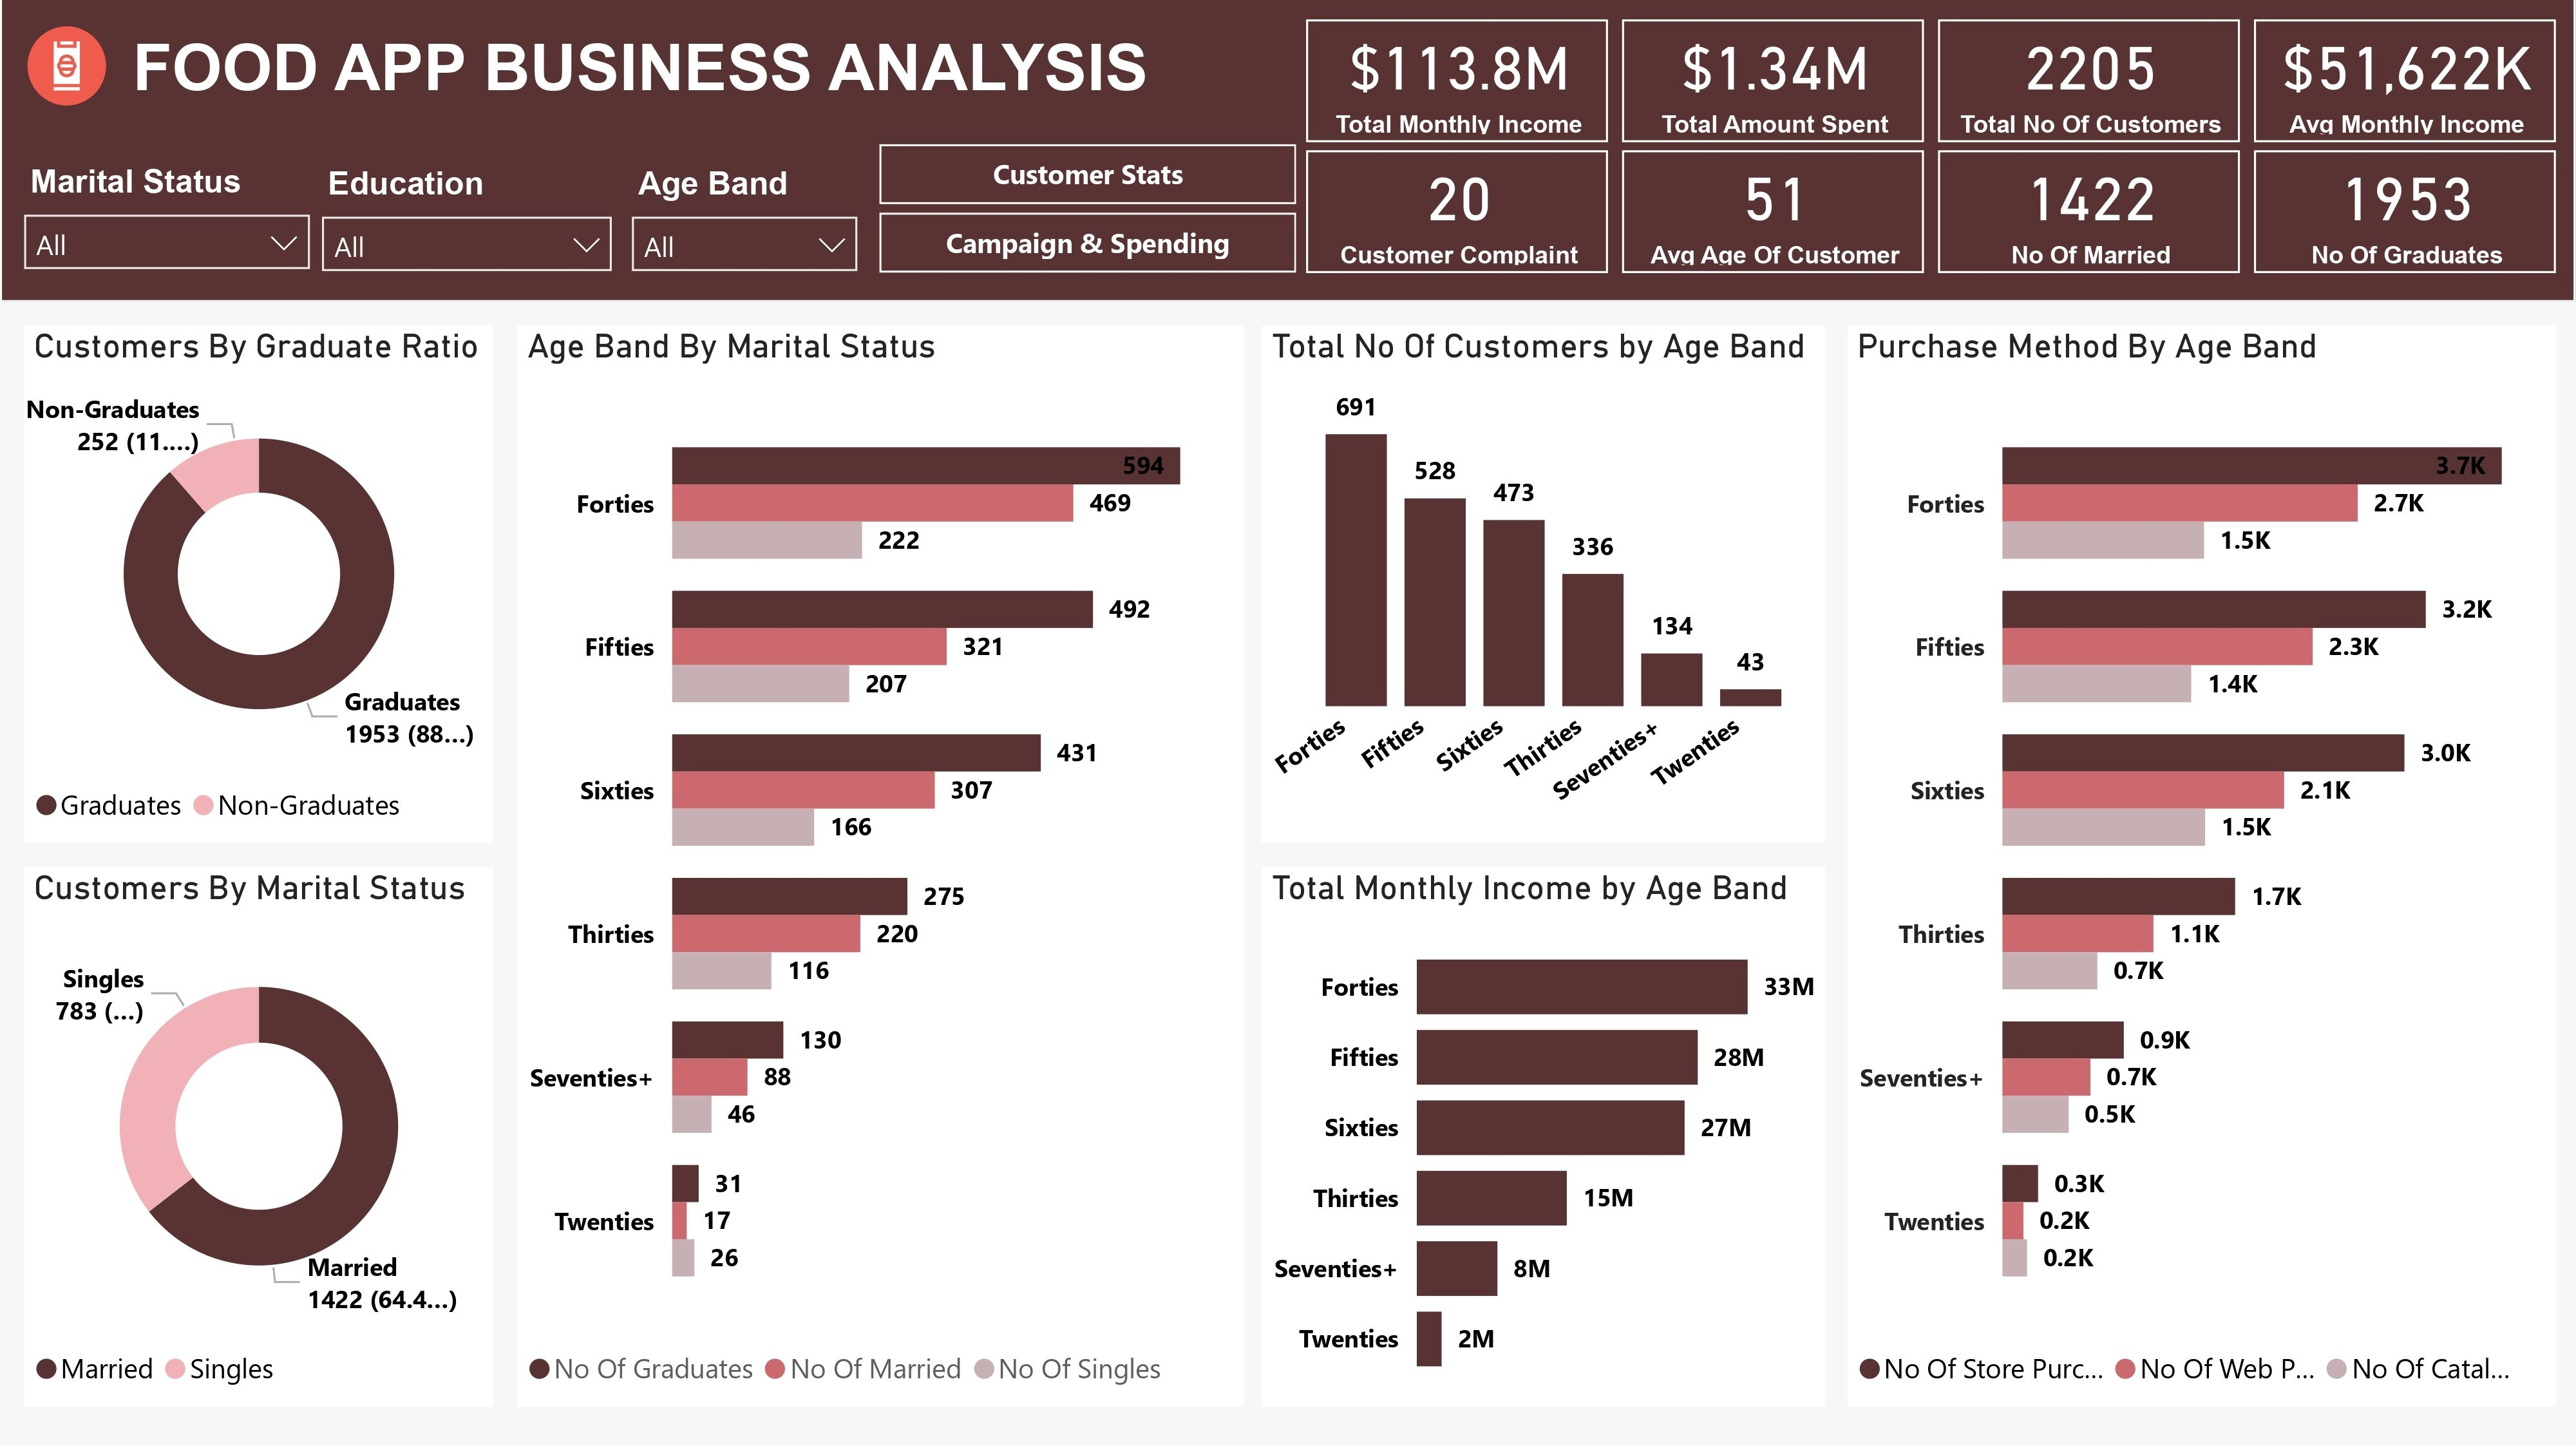

This screenshot's page, from the dashboard's own definition file:
{"tool":"powerbi","page":{"name":"REPORT 1","canvas":[1280,720],"ordinal":0},"visuals":[{"type":"shape","box":[0,0,1280,142],"z":0},{"type":"textbox","box":[20.1,16.8,528.4,53.7],"z":1000},{"type":"card","fields":{"Values":["DAX.Formatted Total Amount"]},"box":[765,11.7,164.4,60.4],"z":2000},{"type":"card","fields":{"Values":["DAX.Formated Avg Monthly Income"]},"box":[1105.5,11.7,164.4,60.4],"z":3000},{"type":"card","fields":{"Values":["DAX.No Of Graduates"]},"box":[1105.5,77.2,164.4,60.4],"z":4000},{"type":"card","fields":{"Values":["DAX.No Of Customer Complaint"]},"box":[593.9,77.2,164.4,60.4],"z":5000},{"type":"card","fields":{"Values":["DAX.Total No Of Customers"]},"box":[934.4,11.7,164.4,60.4],"z":6000},{"type":"card","fields":{"Values":["DAX.No Of Married"]},"box":[934.4,77.2,164.4,60.4],"z":7000},{"type":"card","fields":{"Values":["DAX.Formatted Total Amonthly Income"]},"box":[593.9,11.7,164.4,60.4],"z":8000},{"type":"card","fields":{"Values":["DAX.Avg Customer Age"]},"box":[765,77.2,164.4,60.4],"z":9000},{"type":"clusteredBarChart","title":"Age Band By Purchase Method","fields":{"Category":["FoodAppBusiness.AgeBand"],"Y":["Sum(FoodAppBusiness.NoOfStorePurchase)","Sum(FoodAppBusiness.NoOfWebPurchase)","Sum(FoodAppBusiness.NoOfCatalogPurchase)"]},"box":[917.6,154.3,352.3,546.9],"z":10000},{"type":"clusteredColumnChart","fields":{"Y":["DAX.Total No Of Customers"],"Category":["FoodAppBusiness.AgeBand"]},"box":[627.4,156,280,265.1],"z":11000},{"type":"barChart","fields":{"Category":["FoodAppBusiness.AgeBand"],"Y":["DAX.Total Monthly Income"]},"box":[627.4,431.1,280.2,270.1],"z":12000},{"type":"donutChart","title":"Customers By Marital Status","fields":{"Y":["DAX.No Of Married","DAX.No Of Singles"]},"box":[11.7,431.1,233.2,270.1],"z":13000},{"type":"donutChart","title":"Customers By Graduate Ratio","fields":{"Y":["DAX.No Of Graduates","DAX.No Of Non-Graduates"]},"box":[11.7,151,233.2,270.1],"z":14000},{"type":"slicer","fields":{"Values":["FoodAppBusiness.AgeBand"]},"box":[457.8,76.5,131.8,59.5],"z":15000,"group":"g1"},{"type":"slicer","fields":{"Values":["FoodAppBusiness.Graduate_Status"]},"box":[304.7,76.5,163,59.5],"z":16000,"group":"g1"},{"type":"slicer","fields":{"Values":["FoodAppBusiness.Marital_Status"]},"box":[161.5,75.1,151.7,58.1],"z":17000,"group":"g1"},{"type":"clusteredBarChart","title":"Age Band By Marital Status and Education","fields":{"Category":["FoodAppBusiness.AgeBand"],"Y":["DAX.No Of Graduates","DAX.No Of Married","DAX.No Of Singles"]},"box":[256.7,151,360.7,550.2],"z":18000},{"type":"actionButton","box":[11.3,102,140.3,31.2],"z":19000,"group":"g1"},{"type":"group","id":"g1","title":"Group 1","box":[11.3,75.1,578.3,60.9],"z":19001}]}

Visuals, with their boxes in screenshot pixels (x1, y1, x2, y2), scaled from the page's 1280x720 canvas onto the 2576x1455 screenshot:
shape: x1=0, y1=0, x2=2575, y2=287
textbox: x1=41, y1=34, x2=1104, y2=142
card - DAX.Formatted Total Amount: x1=1540, y1=24, x2=1870, y2=146
card - DAX.Formated Avg Monthly Income: x1=2225, y1=24, x2=2555, y2=146
card - DAX.No Of Graduates: x1=2225, y1=156, x2=2555, y2=278
card - DAX.No Of Customer Complaint: x1=1195, y1=156, x2=1526, y2=278
card - DAX.Total No Of Customers: x1=1880, y1=24, x2=2211, y2=146
card - DAX.No Of Married: x1=1880, y1=156, x2=2211, y2=278
card - DAX.Formatted Total Amonthly Income: x1=1195, y1=24, x2=1526, y2=146
card - DAX.Avg Customer Age: x1=1540, y1=156, x2=1870, y2=278
"Age Band By Purchase Method" clusteredBarChart: x1=1847, y1=312, x2=2555, y2=1417
clusteredColumnChart - DAX.Total No Of Customers x FoodAppBusiness.AgeBand: x1=1263, y1=315, x2=1826, y2=851
barChart - FoodAppBusiness.AgeBand x DAX.Total Monthly Income: x1=1263, y1=871, x2=1826, y2=1417
"Customers By Marital Status" donutChart: x1=24, y1=871, x2=493, y2=1417
"Customers By Graduate Ratio" donutChart: x1=24, y1=305, x2=493, y2=851
slicer - FoodAppBusiness.AgeBand: x1=922, y1=155, x2=1186, y2=275
slicer - FoodAppBusiness.Graduate_Status: x1=613, y1=155, x2=942, y2=275
slicer - FoodAppBusiness.Marital_Status: x1=325, y1=152, x2=630, y2=269
"Age Band By Marital Status and Education" clusteredBarChart: x1=516, y1=305, x2=1242, y2=1417
actionButton: x1=23, y1=206, x2=305, y2=269
"Group 1" group: x1=23, y1=152, x2=1186, y2=275
